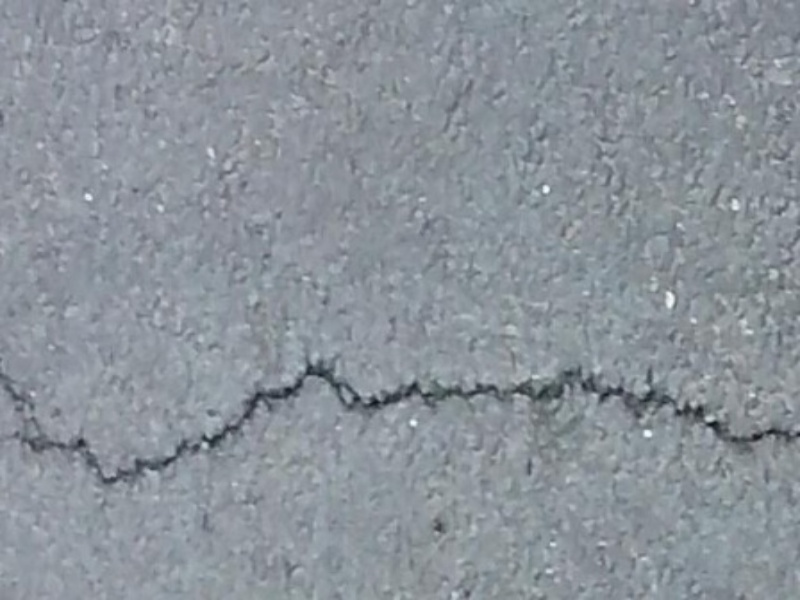crack: (25, 350, 780, 517)
